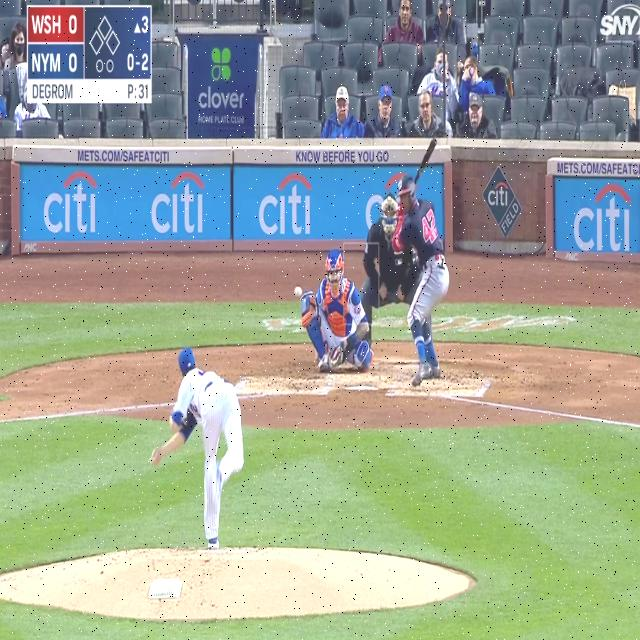baseball: (294, 286, 302, 298)
